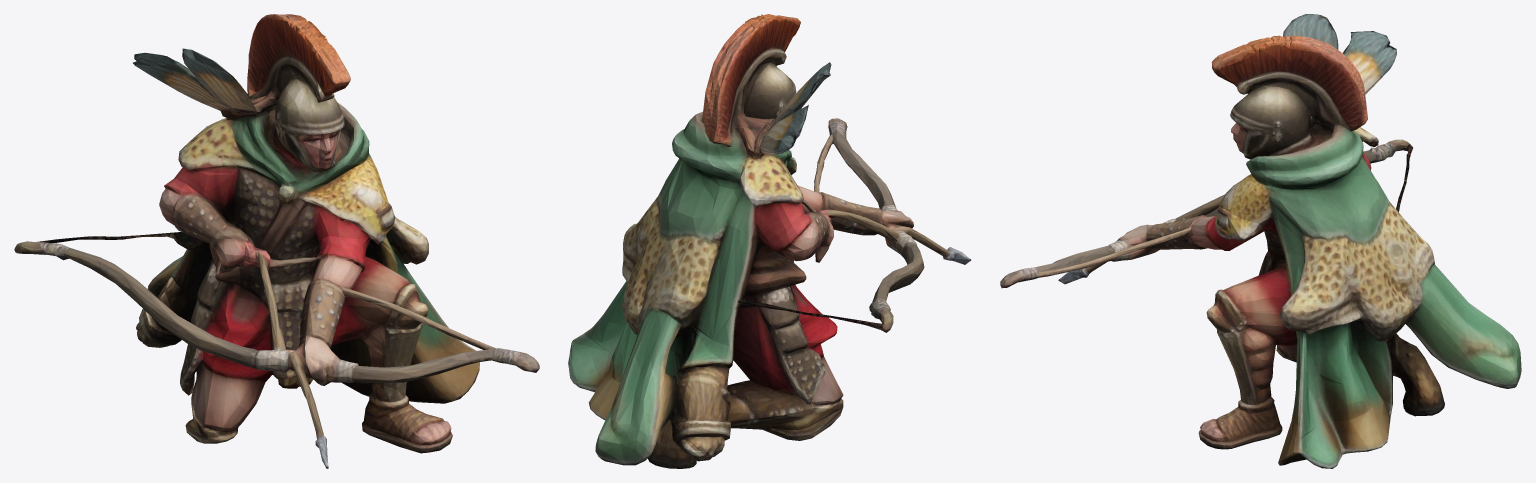
Rendered from legionMarksman.glb.
3 renders of one model, left to right at view 1: azimuth 30°, elevation 25°; view 2: azimuth 150°, elevation 25°; view 3: azimuth 270°, elevation 25°, orthographic. The views are drawn at different scales.
Parts seen in each view (by area): view 1: world; view 2: world; view 3: world.
Boxes of the visible parts, bbox=[...] form: world: bbox=[14, 14, 539, 468]; world: bbox=[568, 14, 971, 468]; world: bbox=[1000, 14, 1521, 468].
Bounding box in the file's own units: 0.7778 × 0.7755 × 0.9978.
Materials: 1 (1 with a texture image).
